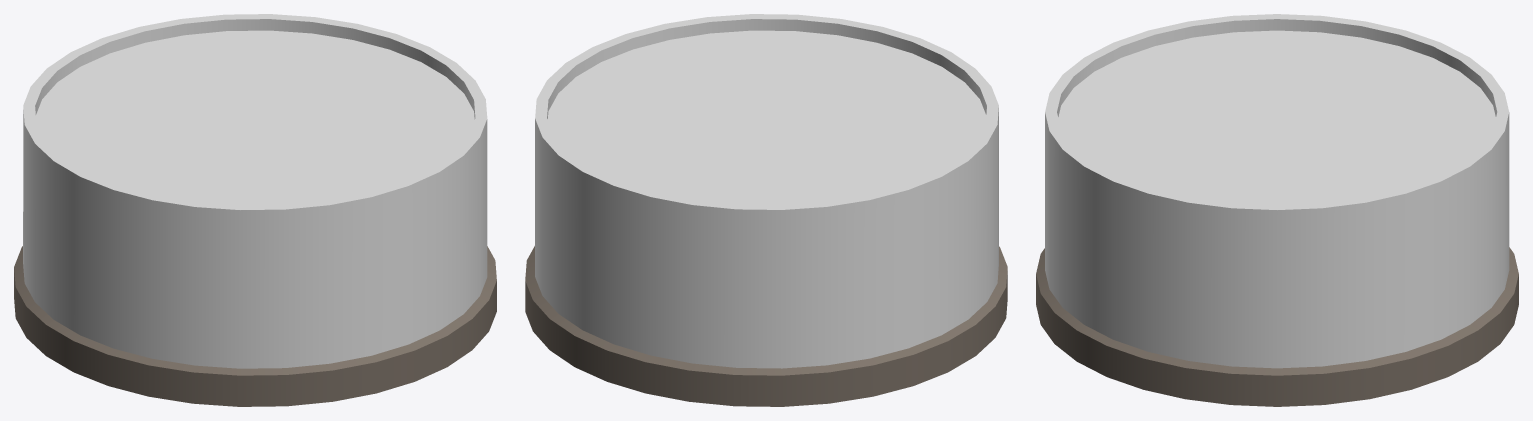
Rendered from wall_small_01.fbx.
3 renders of one model, left to right at view 1: azimuth 30°, elevation 25°; view 2: azimuth 150°, elevation 25°; view 3: azimuth 270°, elevation 25°, orthographic.
Visible parts, largest first — view 1: wall_small; view 2: wall_small; view 3: wall_small.
Part boxes in pixels (bbox=[...]): wall_small: bbox=[14, 14, 496, 406]; wall_small: bbox=[525, 14, 1007, 406]; wall_small: bbox=[1036, 14, 1518, 406].
Size of the model in its own units: 1024 by 451 by 1024.
